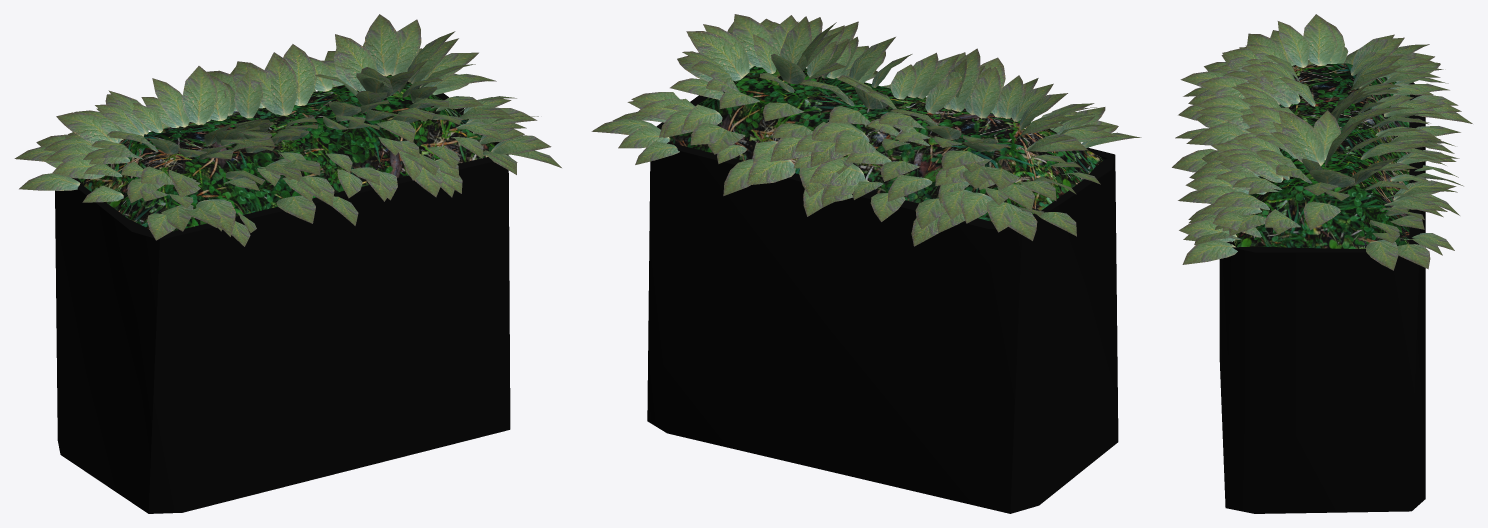
Rendered from OfficePlant01.FBX.
3 renders of one model, left to right at view 1: azimuth 30°, elevation 25°; view 2: azimuth 150°, elevation 25°; view 3: azimuth 270°, elevation 25°, orthographic. The views are drawn at different scales.
Visible parts, largest first — view 1: OfficePlant01; view 2: OfficePlant01; view 3: OfficePlant01.
Part boxes in pixels (left/top/right/bottom): OfficePlant01: left=14, top=14, right=561, bottom=513; OfficePlant01: left=591, top=14, right=1141, bottom=513; OfficePlant01: left=1172, top=14, right=1472, bottom=513.
Size of the model in its own units: 121 by 73.33 by 93.11.
